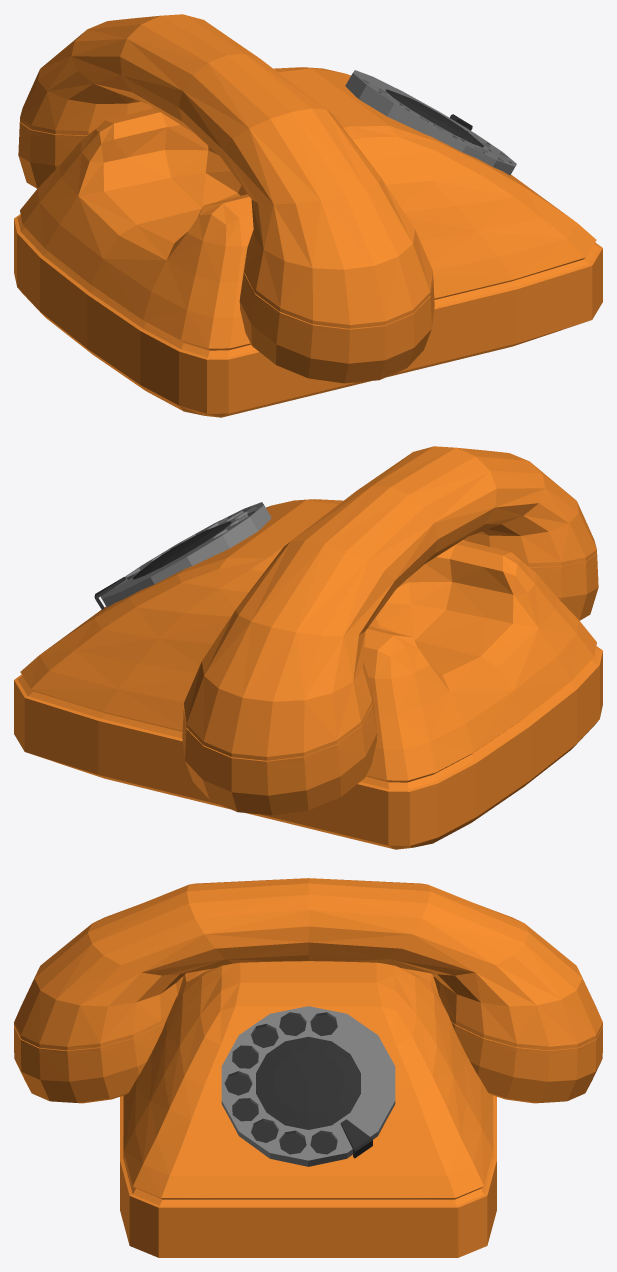
The model's file is Phone.glb.
3 views of the same model, one above another, from view 1: azimuth 30°, elevation 25°; view 2: azimuth 150°, elevation 25°; view 3: azimuth 270°, elevation 25° (orthographic). The views are drawn at different scales.
Visible parts, largest first — view 1: Phone; view 2: Phone; view 3: Phone.
Part boxes in pixels (x1,y1,x2,y2): Phone: [14, 14, 602, 417]; Phone: [14, 446, 602, 849]; Phone: [14, 878, 602, 1257].
Bounding box in the file's own units: 69.22 × 41.02 × 87.67.
1 material, 1 textured.
